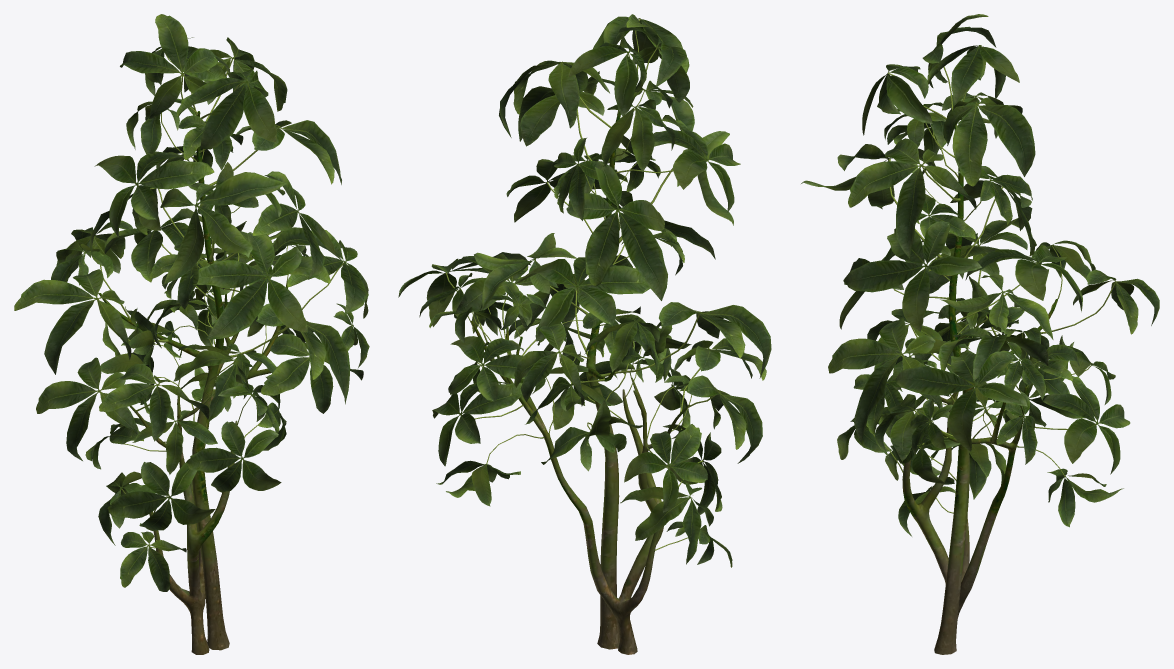
File: tree-pachira-tall.glb
3 renders of one model, left to right at view 1: azimuth 30°, elevation 25°; view 2: azimuth 150°, elevation 25°; view 3: azimuth 270°, elevation 25°, orthographic. The views are drawn at different scales.
Parts seen in each view (by area): view 1: pachira_aquatica_01_leaves_d, pachira_aquatica_01_bark_d; view 2: pachira_aquatica_01_leaves_d, pachira_aquatica_01_bark_d; view 3: pachira_aquatica_01_leaves_d, pachira_aquatica_01_bark_d.
Part boxes in pixels (bbox=[...]): pachira_aquatica_01_leaves_d: bbox=[14, 14, 369, 591]; pachira_aquatica_01_bark_d: bbox=[99, 111, 287, 654]; pachira_aquatica_01_leaves_d: bbox=[398, 14, 771, 567]; pachira_aquatica_01_bark_d: bbox=[471, 112, 689, 654]; pachira_aquatica_01_leaves_d: bbox=[801, 14, 1159, 536]; pachira_aquatica_01_bark_d: bbox=[902, 126, 1057, 654].
Size of the model in its own units: 1.05 by 1.9 by 0.997.
2 materials, 2 textured.
